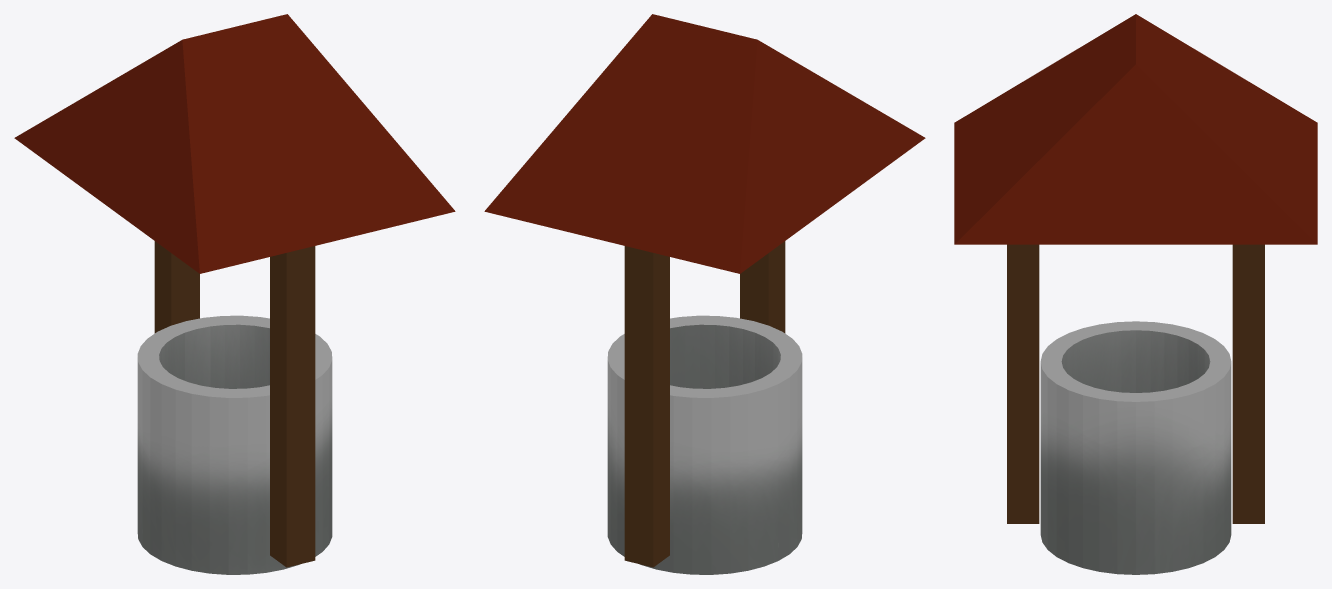
File: well.gltf
The picture shows the model from 3 angles, left to right: view 1: azimuth 30°, elevation 25°; view 2: azimuth 150°, elevation 25°; view 3: azimuth 270°, elevation 25°; orthographic projection. The views are drawn at different scales.
Visible parts, largest first — view 1: Cube.002; view 2: Cube.002; view 3: Cube.002.
Part boxes in pixels (x1,y1,x2,y2): Cube.002: (14, 14, 455, 574); Cube.002: (484, 14, 925, 574); Cube.002: (954, 14, 1317, 574).
Size of the model in its own units: 3.33 by 6.3 by 4.19.
Materials: 3 (3 with a texture image).
